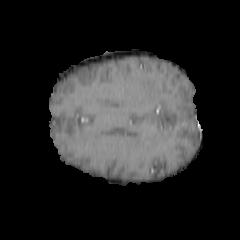glioma: (124, 72, 161, 105)
